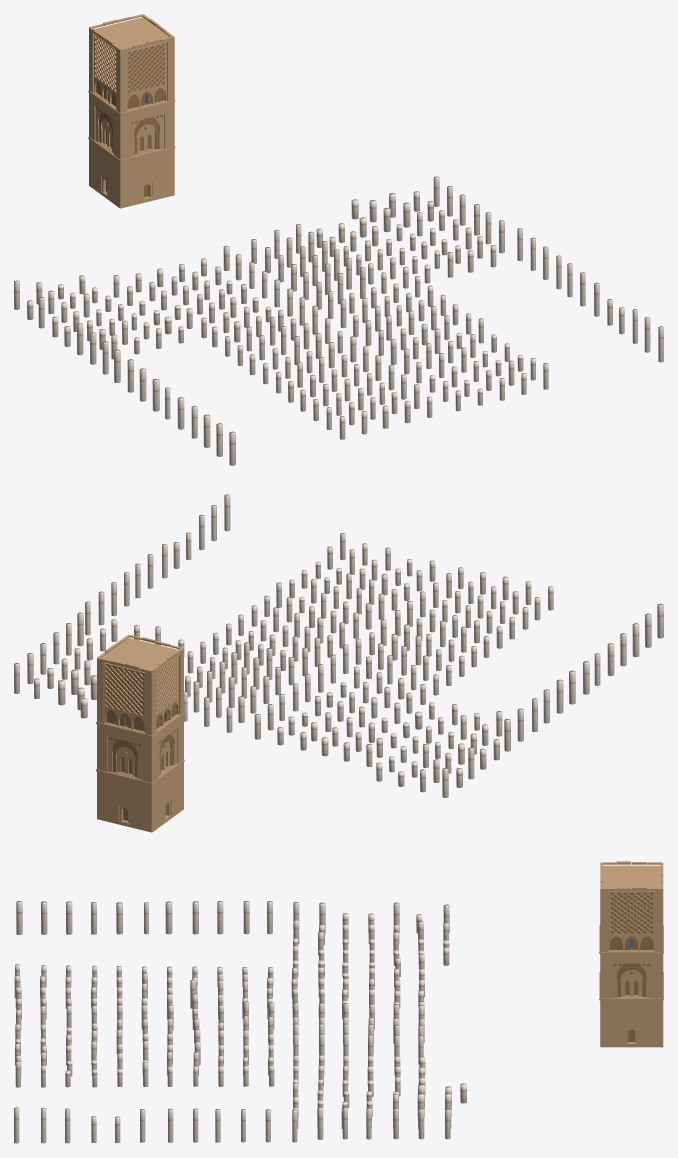
The model's file is rabat-hassan-tower.detail.glb.
3 renders of one model, top to bottom at view 1: azimuth 30°, elevation 25°; view 2: azimuth 150°, elevation 25°; view 3: azimuth 270°, elevation 25°, orthographic.
Parts seen in each view (by area): view 1: Hassan Tower; view 2: Hassan Tower; view 3: Hassan Tower.
Part boxes in pixels (left/top/right/bottom): Hassan Tower: left=14, top=14, right=663, bottom=465; Hassan Tower: left=14, top=494, right=663, bottom=832; Hassan Tower: left=14, top=861, right=663, bottom=1143.
Bounding box in the file's own units: 127 × 44.54 × 165.
